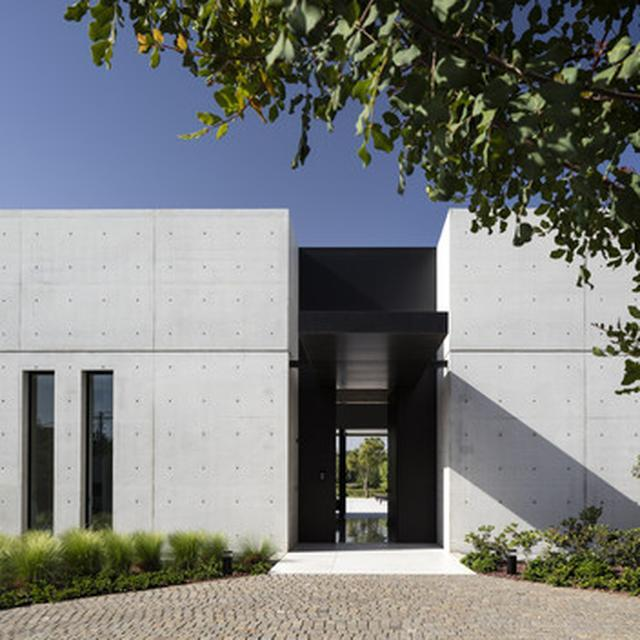building: (0, 210, 640, 561)
